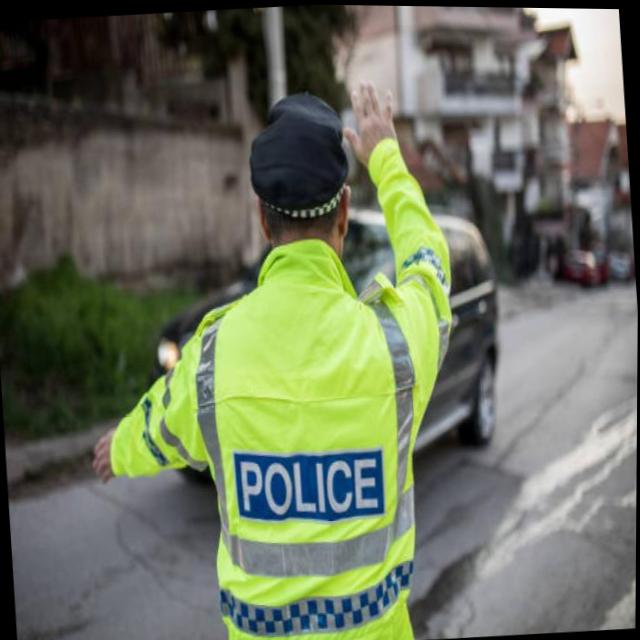no helmet: (236, 77, 375, 280)
